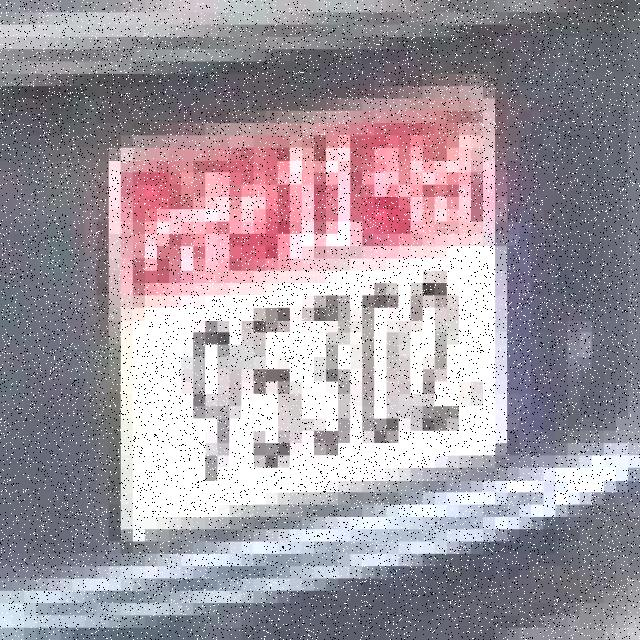licenseplate: (54, 75, 584, 574)
